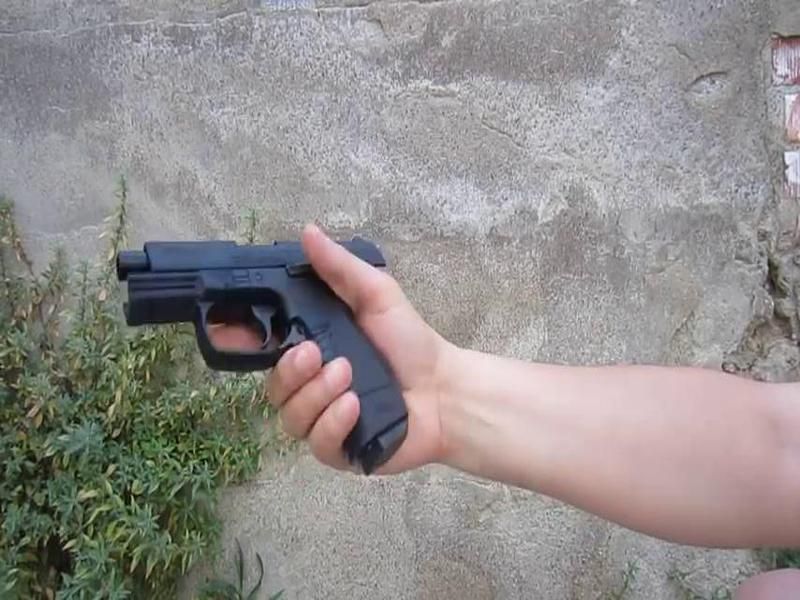Pistola: (105, 204, 447, 471)
